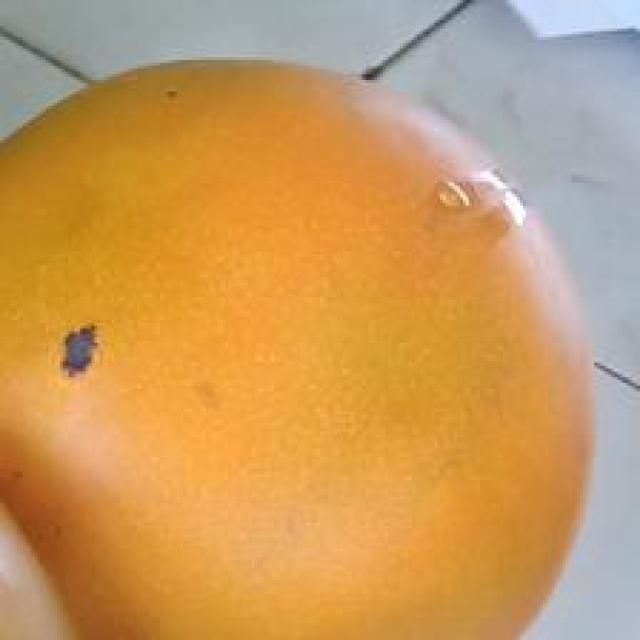Mango: (10, 55, 612, 634)
